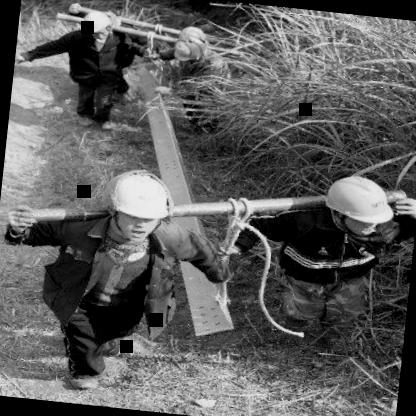helmet: (95, 167, 176, 243), (316, 172, 400, 238), (167, 36, 209, 63), (80, 9, 112, 42), (176, 24, 209, 40)
